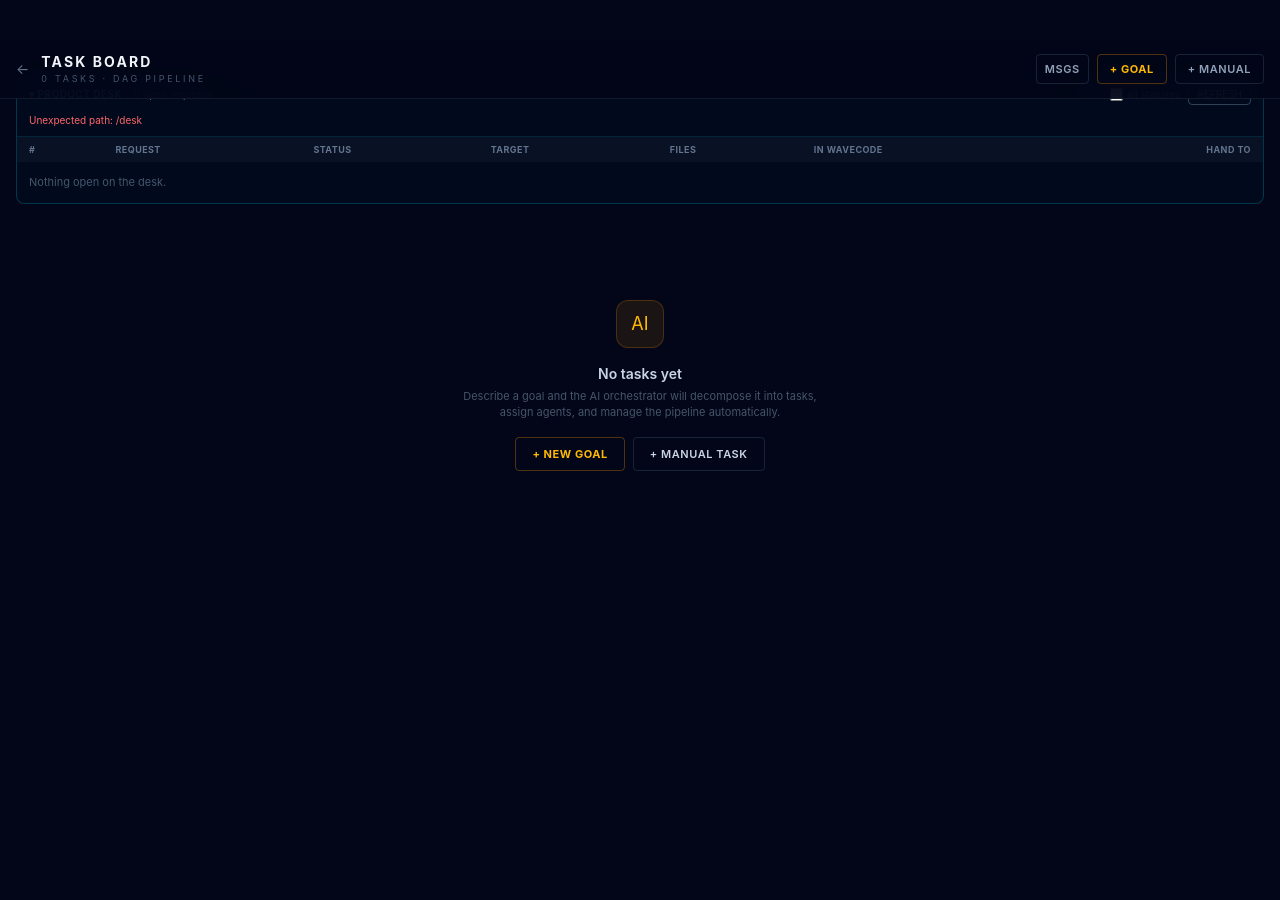
it: TaskBoard › shows manual task creation errors instead of failing silently
Expected: the text "No tasks yet" is shown, x1=598 y1=364 x2=682 y2=382
Click the button "+ Manual".
click(1219, 69)  # box x1=1175 y1=54 x2=1264 y2=84
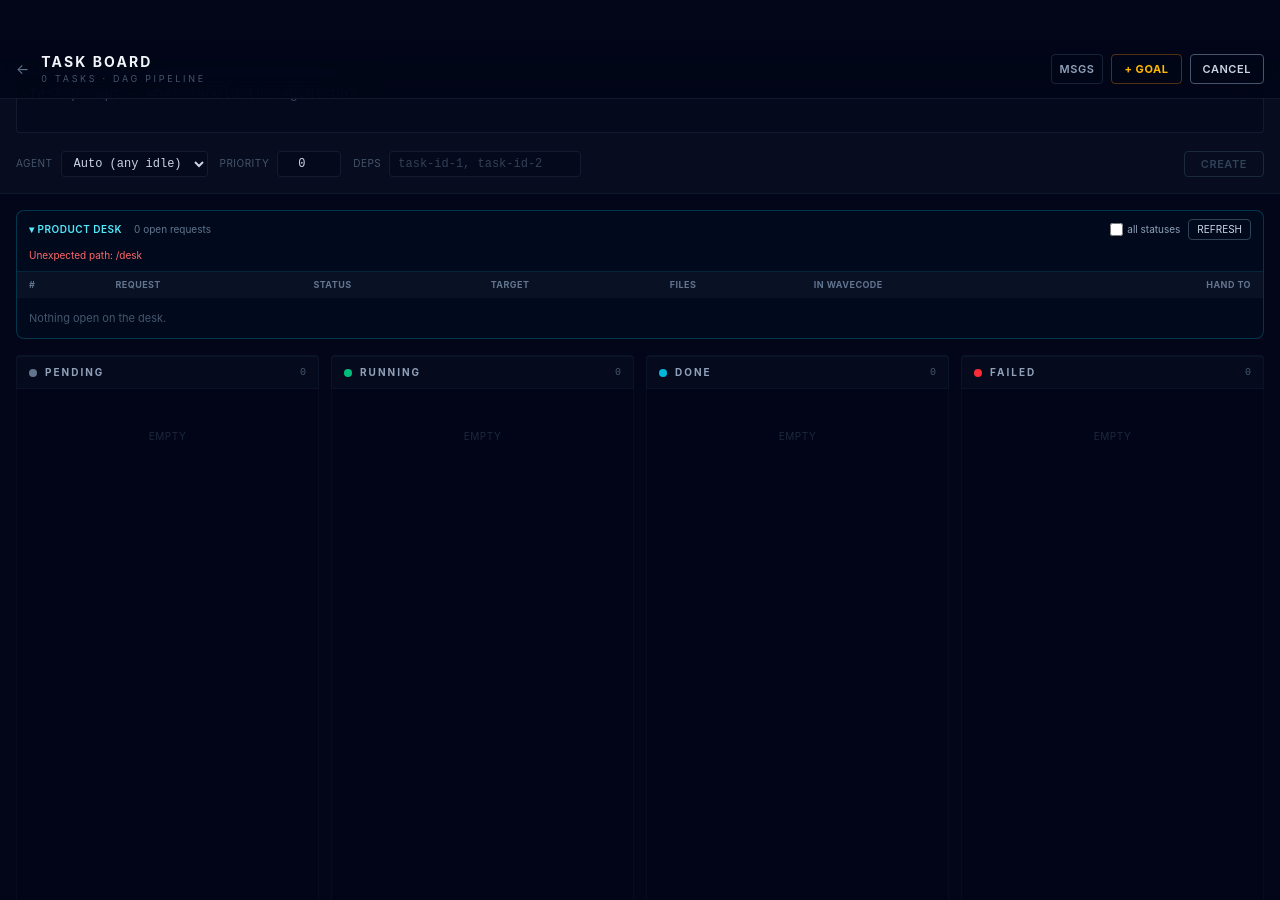
Type "Add retry guards" into the text box with placeholder "Task prompt — what should the agent do?".
click(640, 104); type("Add retry guards")  # box x1=16 y1=74 x2=1264 y2=132
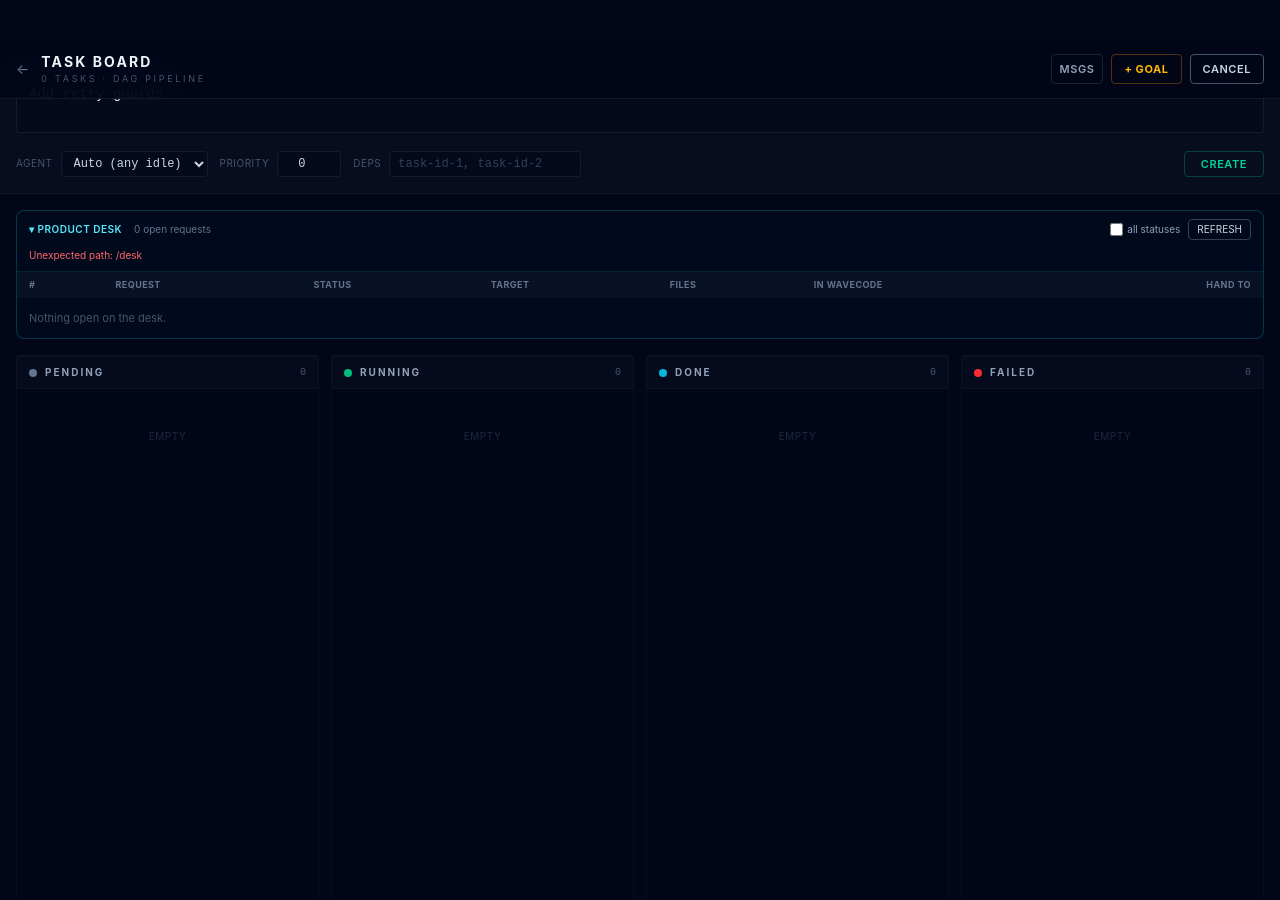
Click the button "Create".
click(1224, 164)  # box x1=1184 y1=150 x2=1264 y2=177
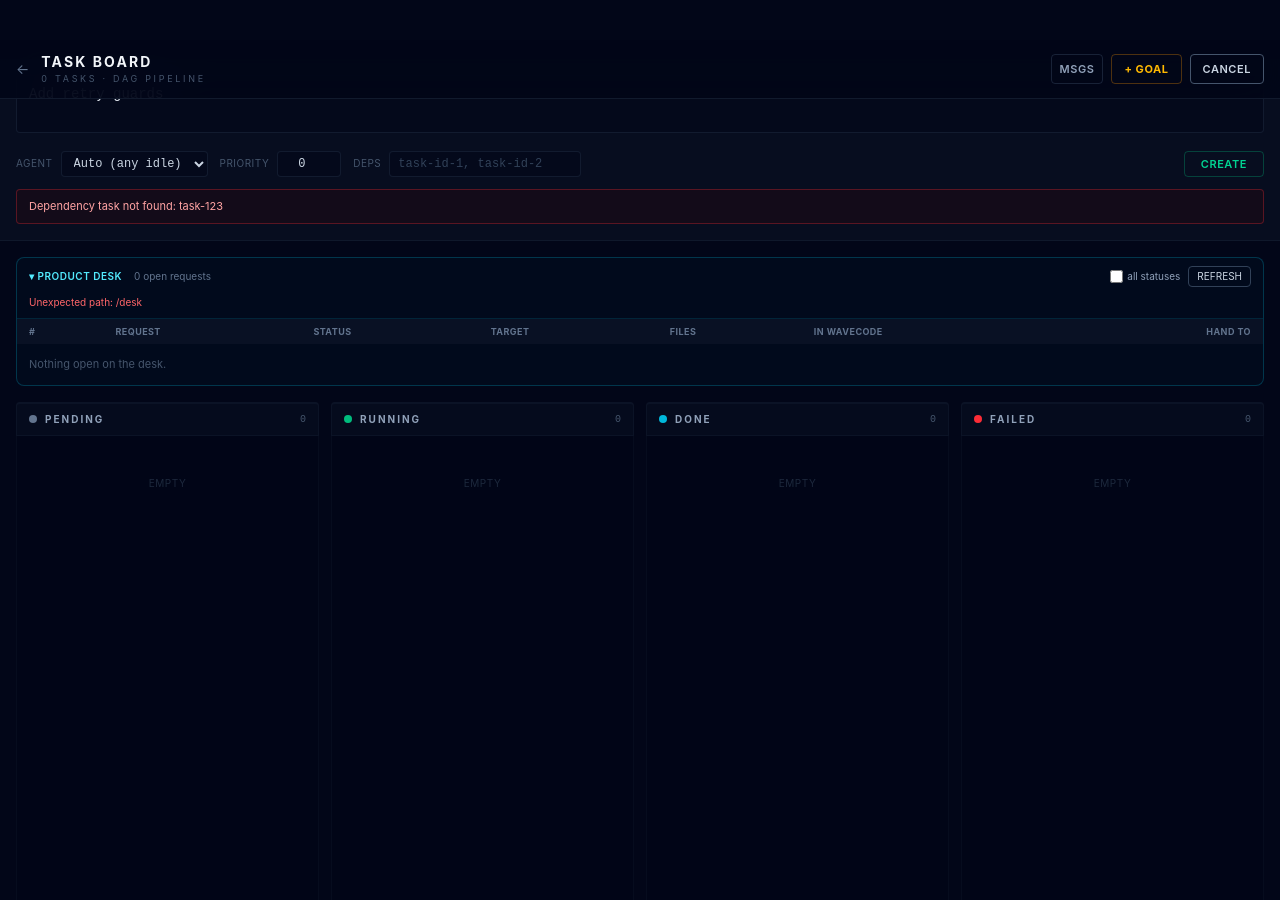
Expected: the text "Dependency task not found: task-123" is shown, x1=16 y1=189 x2=1264 y2=224
